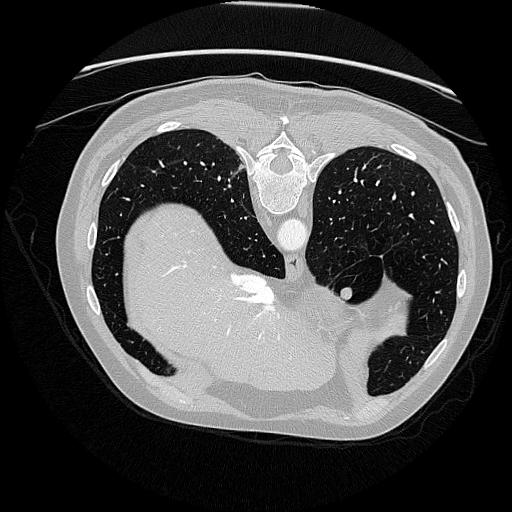nodule: (336, 286, 354, 304)
